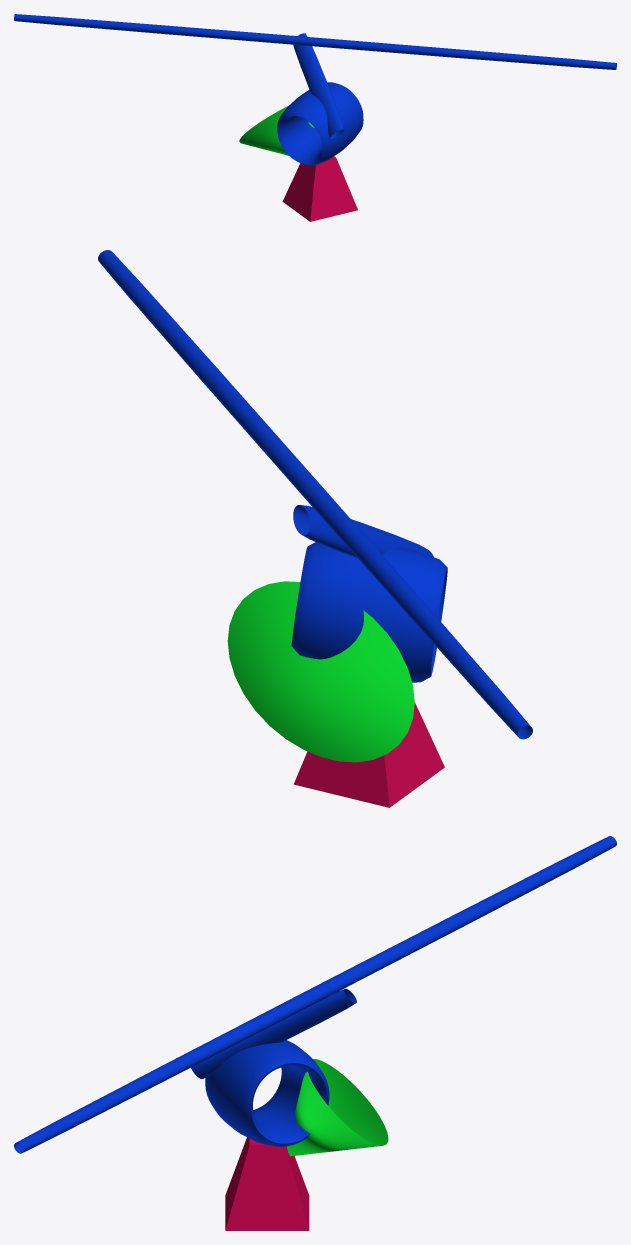
Rendered from simpleScene.fbx.
3 views of the same model, one above another, from view 1: azimuth 30°, elevation 25°; view 2: azimuth 150°, elevation 25°; view 3: azimuth 270°, elevation 25° (orthographic). The views are drawn at different scales.
Parts seen in each view (by area): view 1: BarrelChild2, Barrel, Frustum, BarrelChild, Speaker; view 2: Speaker, BarrelChild2, Barrel, Frustum, BarrelChild; view 3: BarrelChild2, Barrel, Frustum, Speaker, BarrelChild.
Boxes of the visible parts, x1=… form: BarrelChild2: x1=14, y1=14, x2=616, y2=69; Barrel: x1=277, y1=82, x2=363, y2=165; Frustum: x1=282, y1=156, x2=357, y2=221; BarrelChild: x1=293, y1=33, x2=343, y2=138; Speaker: x1=239, y1=106, x2=314, y2=155; Speaker: x1=227, y1=581, x2=414, y2=762; BarrelChild2: x1=98, y1=250, x2=532, y2=739; Barrel: x1=291, y1=542, x2=447, y2=682; Frustum: x1=293, y1=702, x2=444, y2=807; BarrelChild: x1=293, y1=505, x2=433, y2=557; BarrelChild2: x1=14, y1=836, x2=616, y2=1153; Barrel: x1=205, y1=1040, x2=329, y2=1146; Frustum: x1=225, y1=1137, x2=309, y2=1230; Speaker: x1=287, y1=1059, x2=388, y2=1156; BarrelChild: x1=191, y1=988, x2=356, y2=1079.
Bounding box in the file's own units: 17.09 × 6.18 × 14.36.
